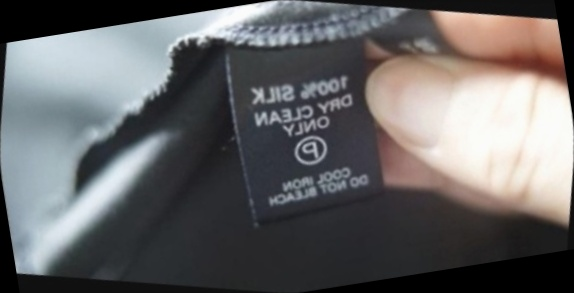dry_clean_any_solvent_except_trichloroethylene: (278, 118, 342, 181)
